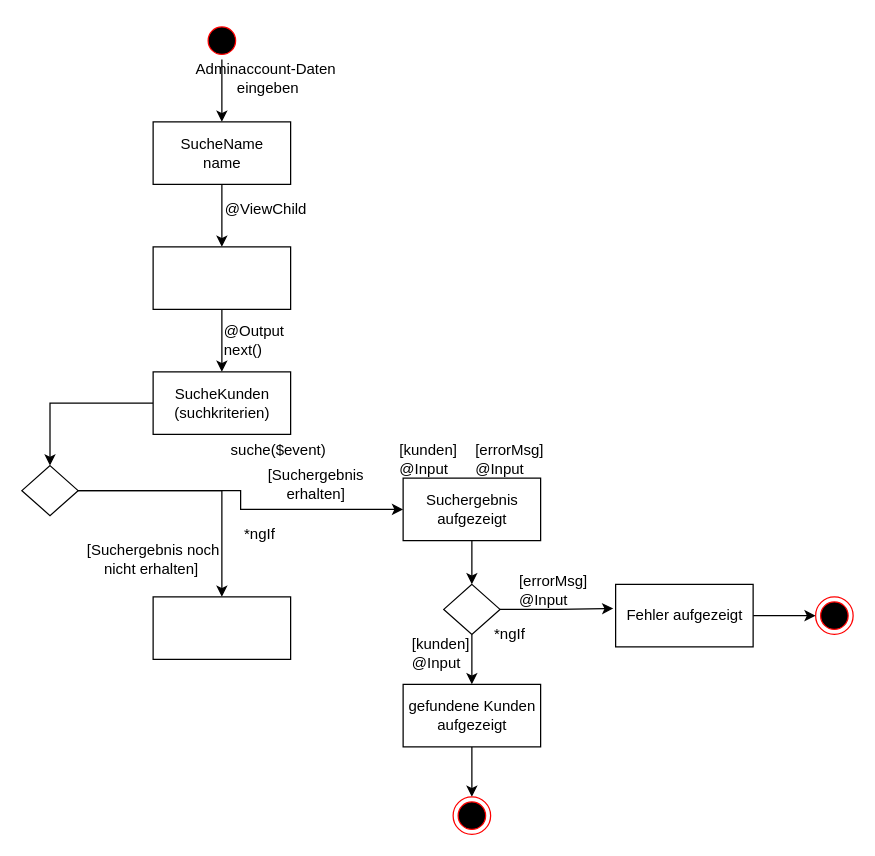
This 875x856 diagram has some shape labels left out. Here are the shapes that lost their labels. From the top down, the box of each, then its label:
(152, 246, 291, 309): Suchformular suchkriterien
(152, 596, 291, 659): Warten aufgezeigt
